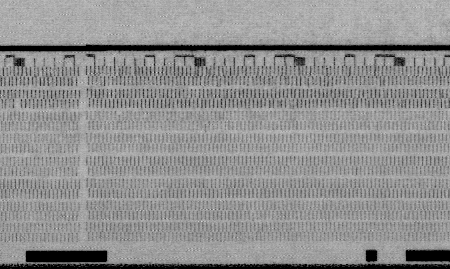Broken hole: (13, 98, 24, 108)
Oblique printing: (112, 110, 126, 124), (198, 120, 212, 133)
